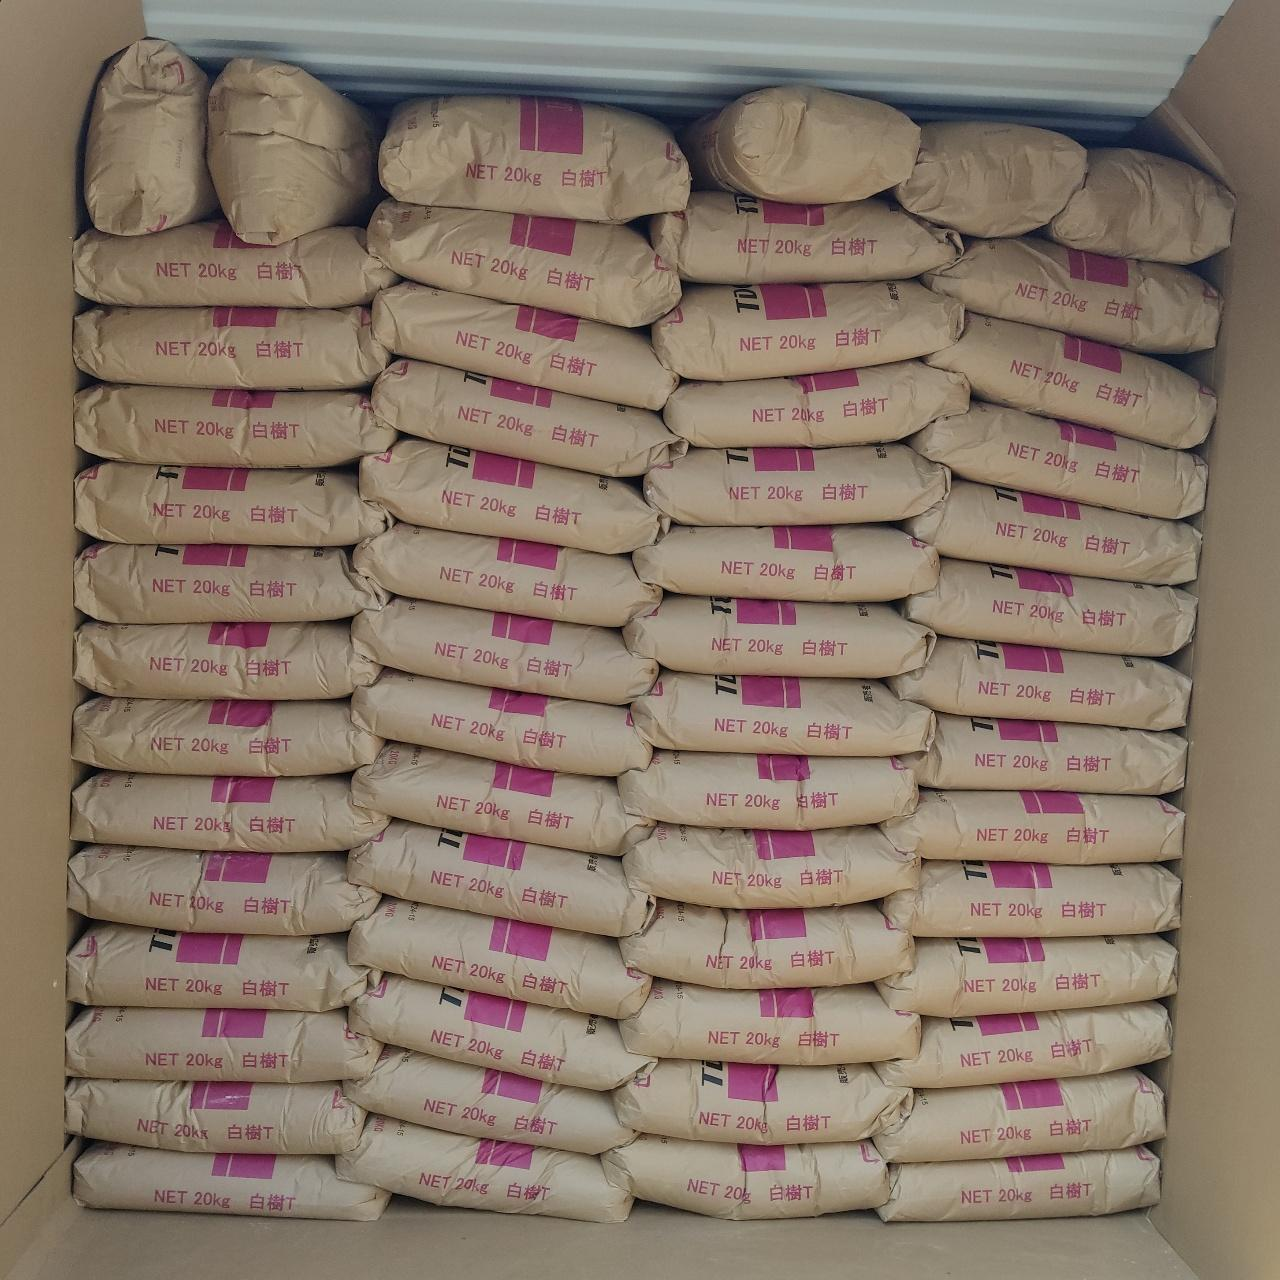sack: (924, 309, 1216, 448), (368, 199, 680, 326), (372, 281, 678, 410), (377, 96, 689, 222), (372, 358, 687, 475), (348, 896, 651, 1017), (359, 437, 668, 553), (348, 821, 653, 937), (908, 400, 1207, 517), (924, 236, 1220, 353), (352, 974, 652, 1089), (350, 744, 656, 855), (350, 597, 659, 702), (652, 279, 965, 381), (352, 669, 651, 775), (336, 1116, 632, 1223), (341, 1046, 633, 1153), (353, 524, 661, 626), (903, 478, 1200, 584), (207, 59, 376, 244), (901, 557, 1197, 656), (74, 219, 396, 307), (888, 636, 1190, 730), (67, 845, 379, 935), (651, 192, 961, 282), (67, 922, 376, 1012), (683, 86, 920, 202), (871, 1070, 1164, 1162), (75, 384, 396, 467), (76, 462, 392, 545), (620, 900, 912, 989), (663, 361, 969, 445), (631, 670, 932, 756), (622, 595, 935, 678), (872, 1002, 1172, 1088), (86, 38, 216, 234), (73, 307, 389, 388), (645, 442, 949, 525), (619, 980, 919, 1064), (72, 772, 388, 852), (622, 823, 919, 907), (73, 1142, 388, 1220), (73, 696, 383, 776), (611, 1062, 912, 1144), (75, 544, 387, 622), (876, 937, 1176, 1017), (599, 1135, 890, 1218), (74, 620, 379, 699), (631, 525, 939, 601), (618, 750, 917, 829), (67, 1007, 375, 1082), (884, 860, 1180, 937), (66, 1080, 366, 1155), (880, 790, 1183, 864), (903, 715, 1186, 794), (1044, 148, 1234, 264), (896, 122, 1085, 236), (876, 1146, 1159, 1221)
